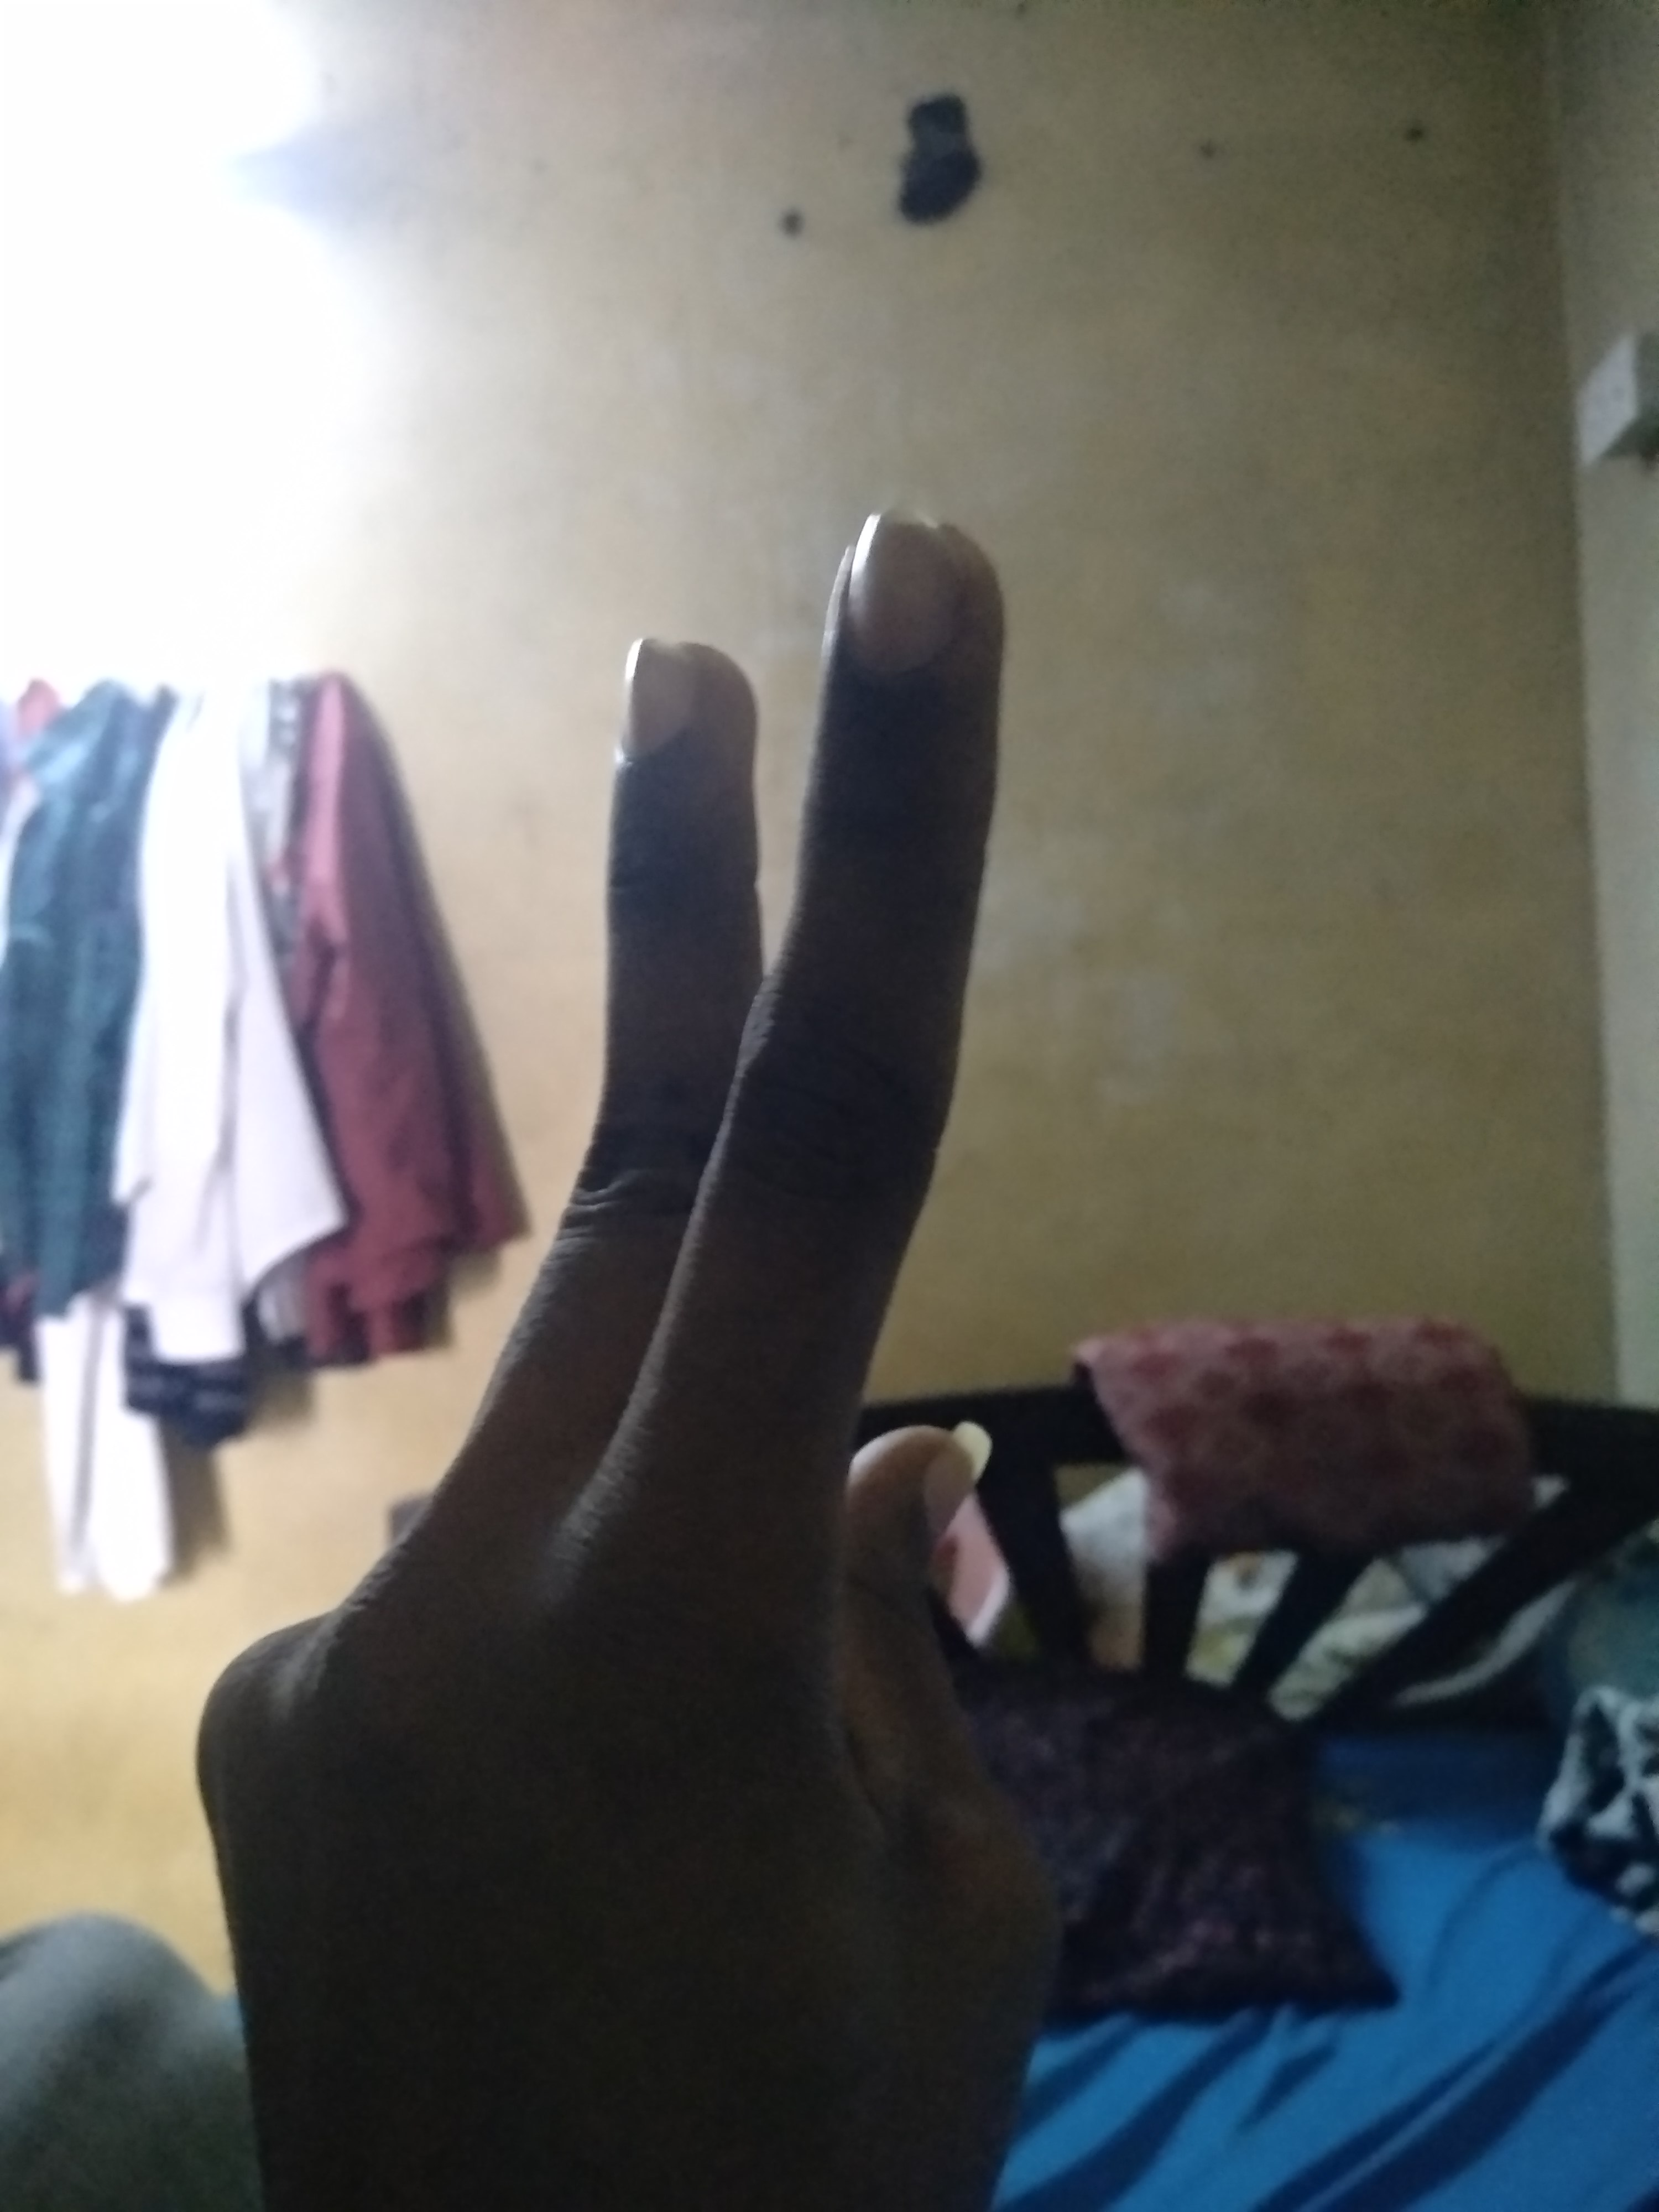two: (498, 472, 613, 1062)
